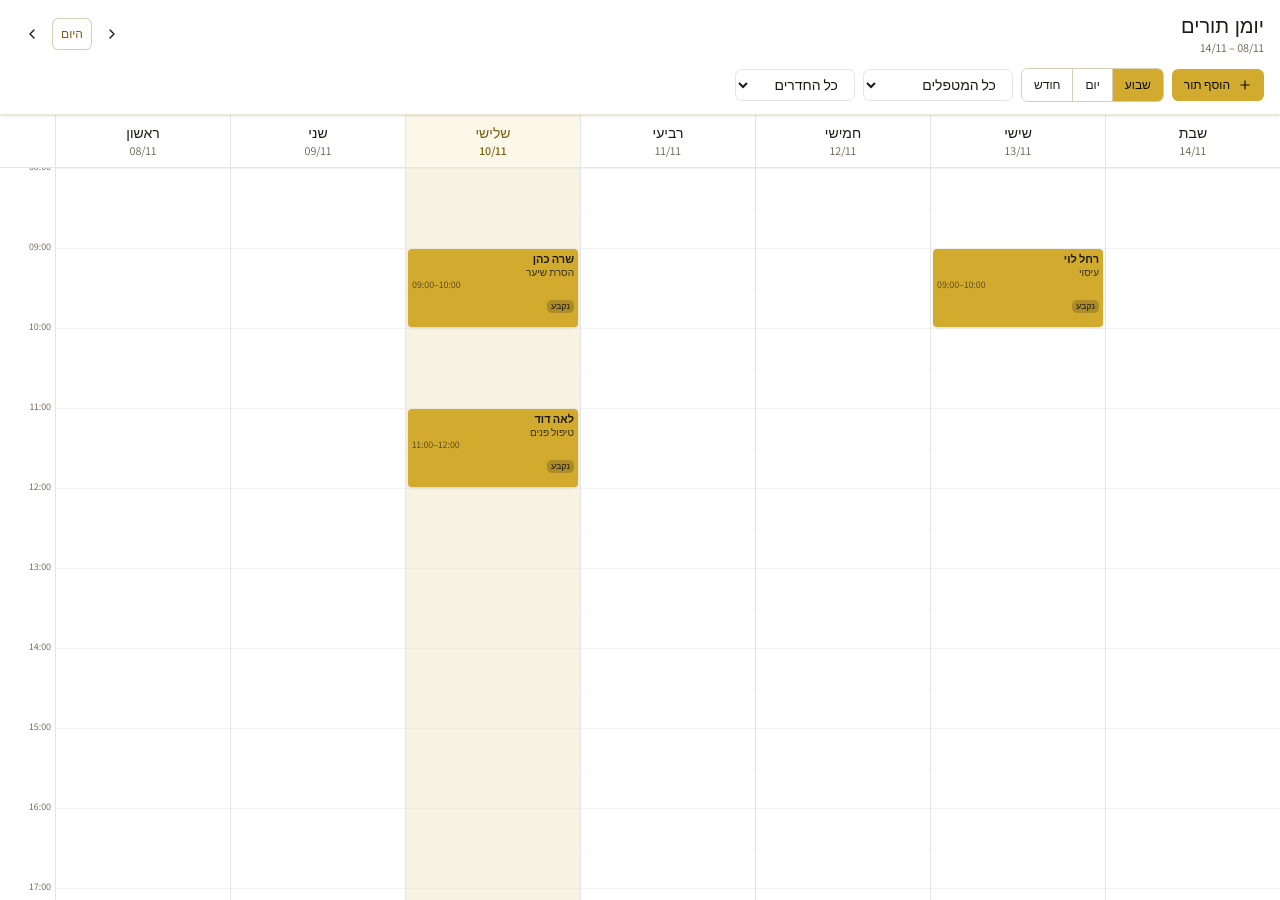
Scenario: 11.11 — תצוגת חודש: רשת 7 עמודות RTL ותוויות עבריות › מרנדרת אזור חודש עם כותרת החודש בעברית (נובמבר 2026)
The width and height of the screenshot is (1280, 900).
Click the button with aria-label "תצוגת חודש": (1047, 85) [1022, 69, 1072, 101]
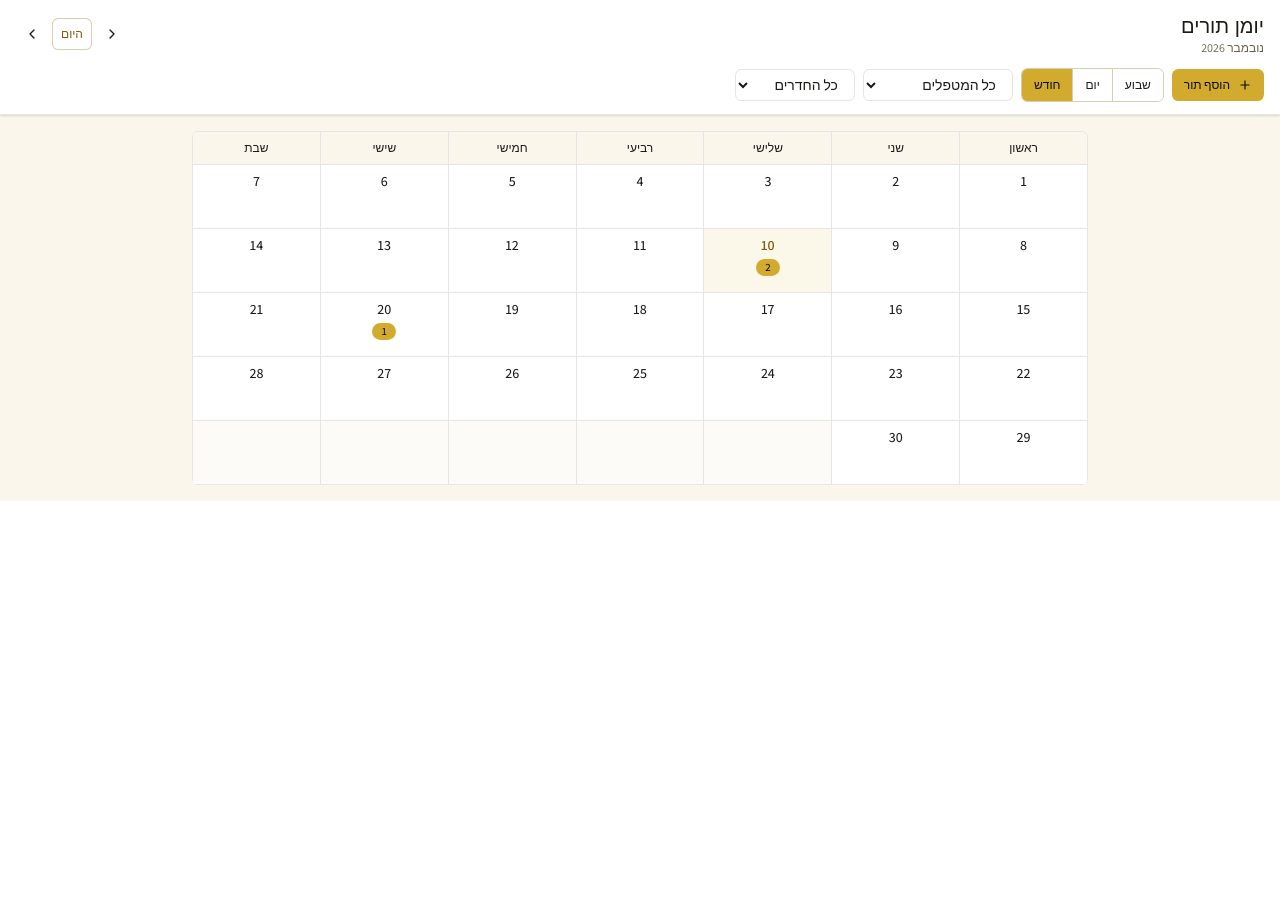
Result: the element named "תצוגת חודש: נובמבר 2026" is shown at [192, 131, 1088, 485]
